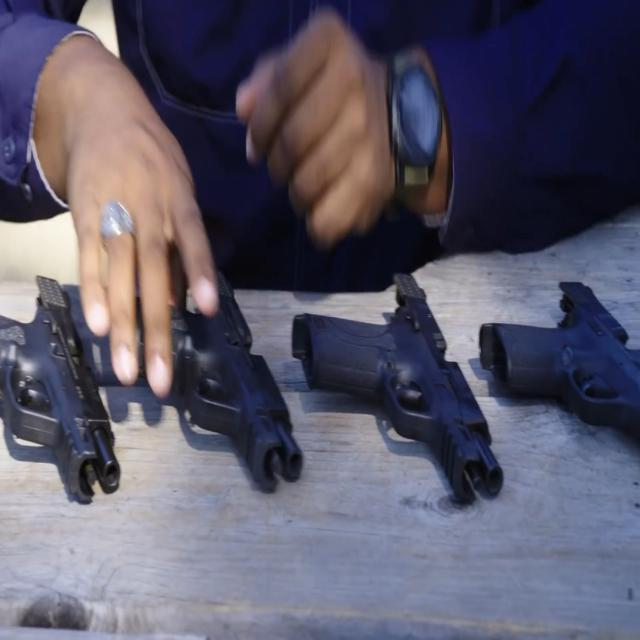handgun: (115, 225, 323, 540), (286, 270, 512, 550), (0, 264, 151, 536), (476, 245, 639, 453)
